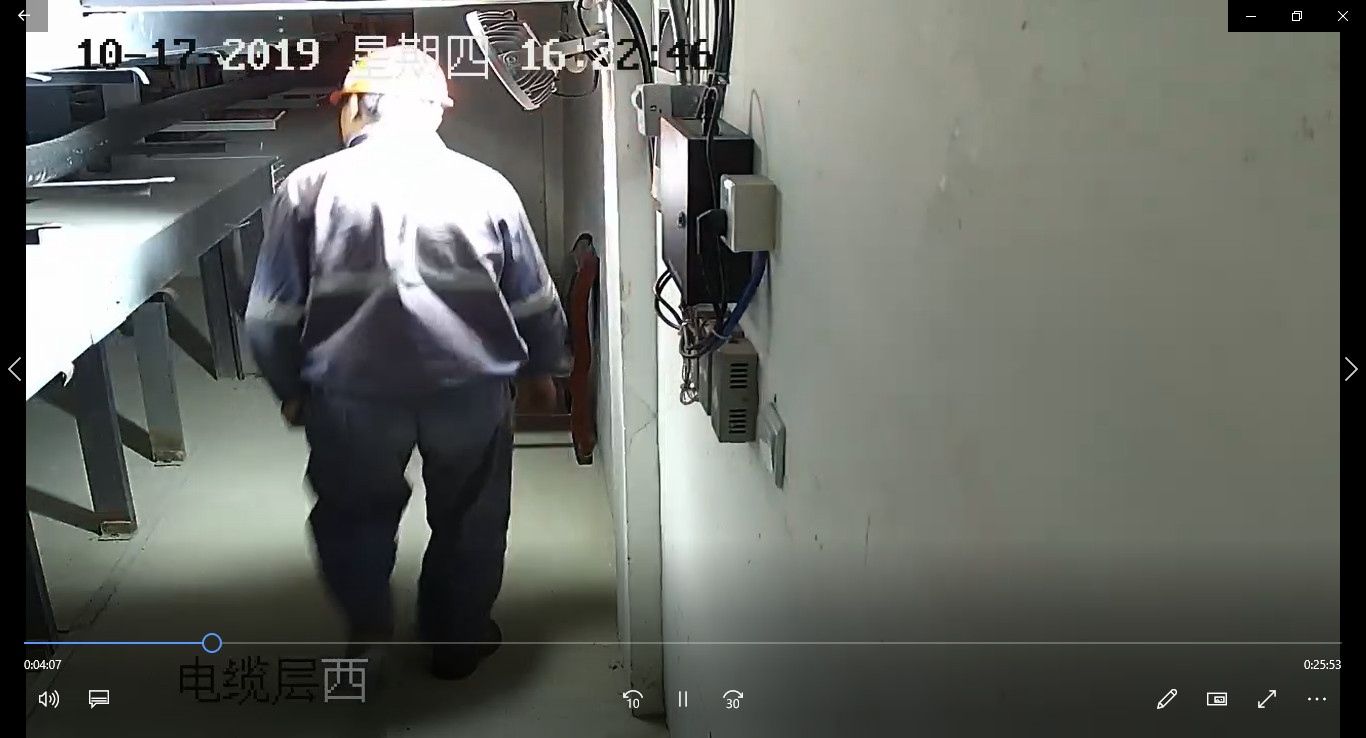helmet: (339, 44, 454, 107)
